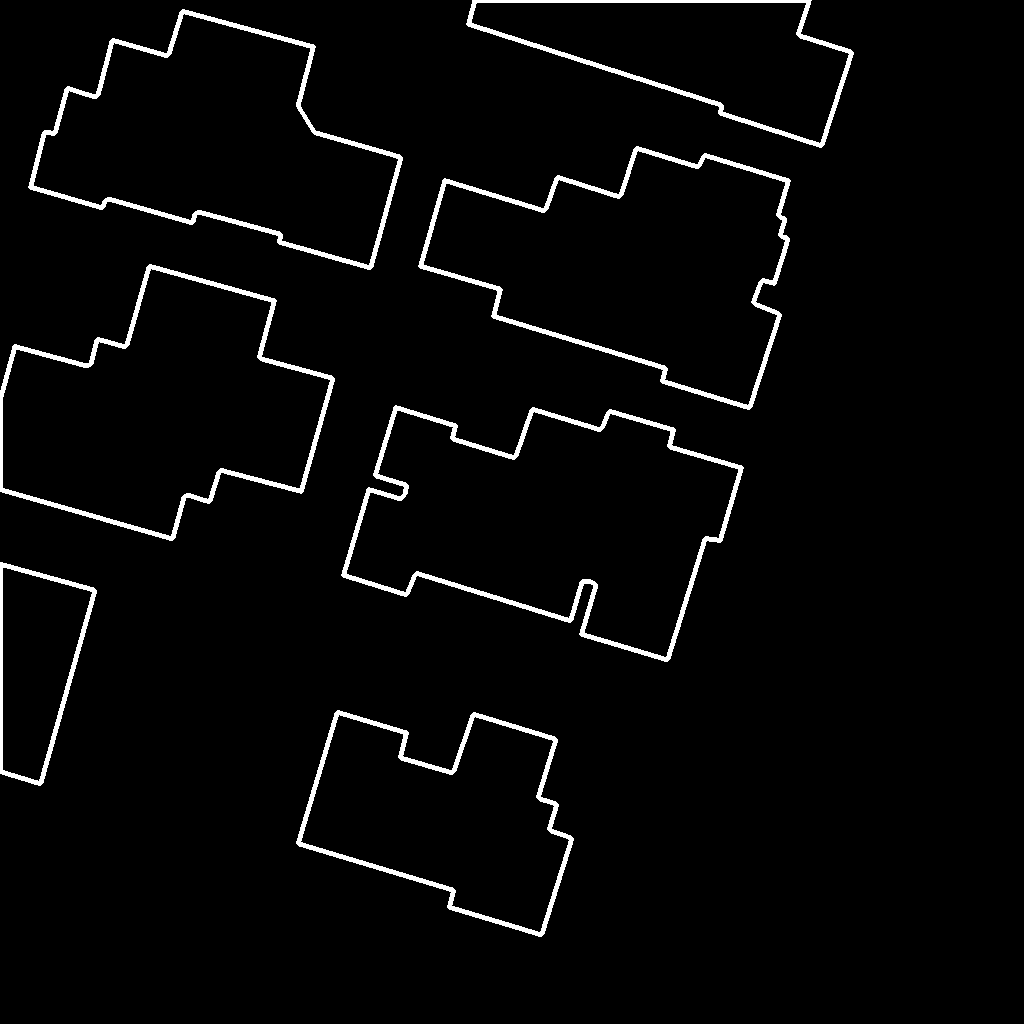building: (343, 407, 743, 661), (420, 148, 790, 409), (30, 11, 402, 269), (0, 266, 334, 540), (298, 712, 573, 936), (468, 0, 853, 147), (0, 564, 96, 785)
